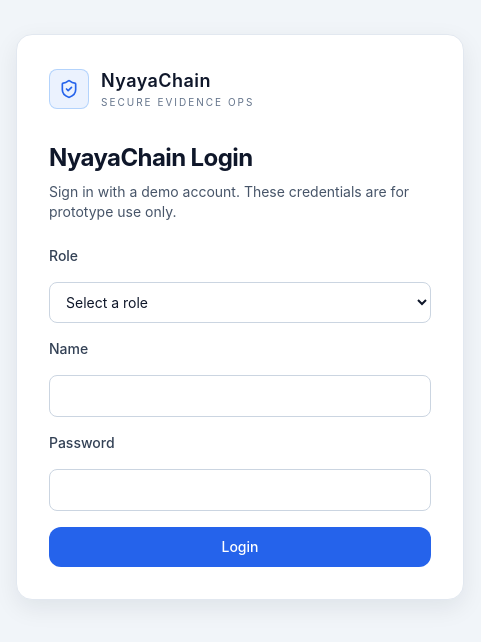
Test: NyayaChain demo authentication › rejects an incorrect password and an invalid role/name combination
The image size is (481, 642).
Select "Investigating Officer" in the dropdown labelled "Role" at [240, 302], box [49, 282, 431, 323]
Type "Ravi Kumar" into the field labelled "Name" at [240, 396], box [49, 375, 431, 417]
Type "wrong" into the password field labelled "Password" at [240, 490], box [49, 469, 431, 511]
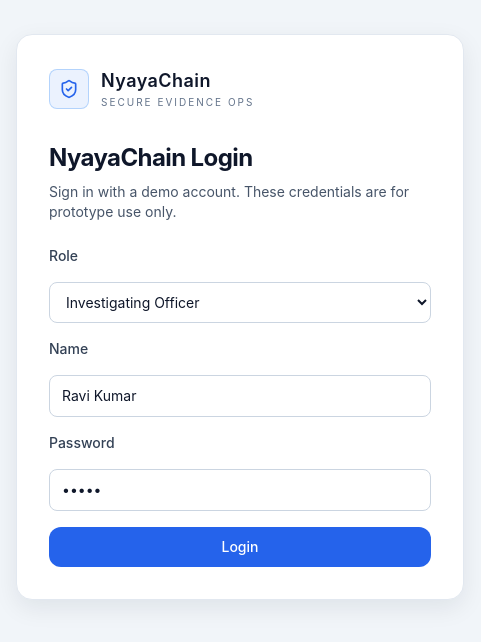
Click the button "Login" at [240, 547], box [49, 527, 431, 567]
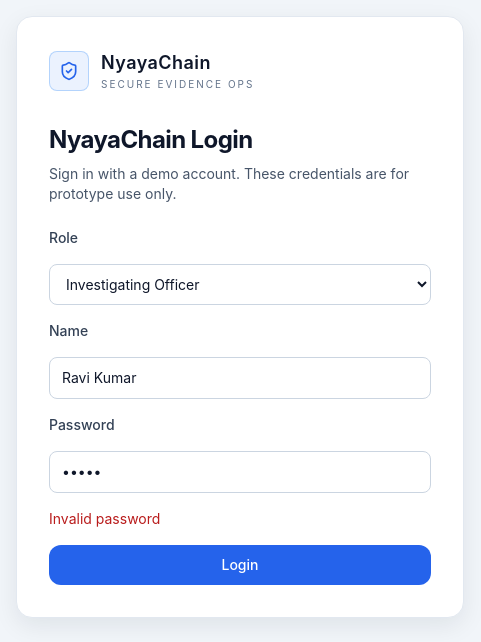
Now the message reads "Invalid password", box [49, 510, 160, 527]
Select "Investigating Officer" in the dropdown labelled "Role" at [240, 284], box [49, 264, 431, 305]
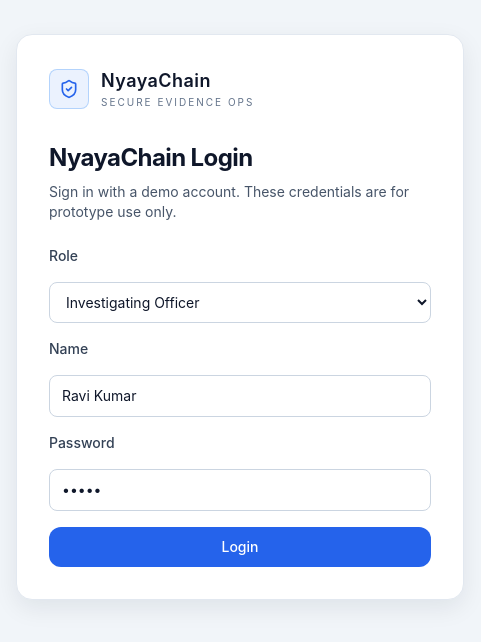
Replace the text in the field labelled "Name" with "Unknown User" at [240, 396], box [49, 375, 431, 417]
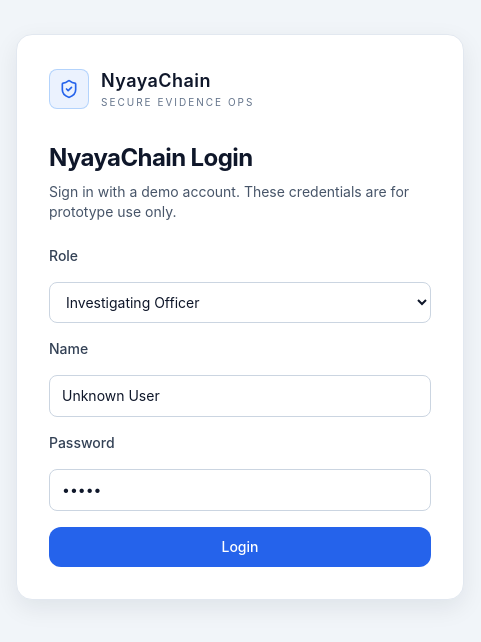
Type "Officer@123" into the password field labelled "Password" at [240, 490], box [49, 469, 431, 511]
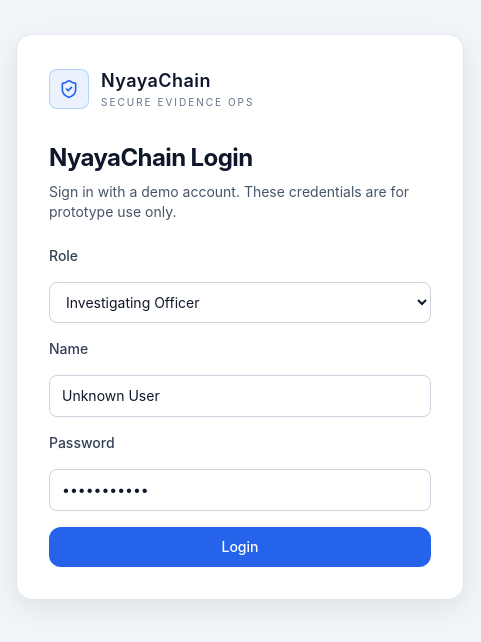
Click the button "Login" at [240, 547], box [49, 527, 431, 567]
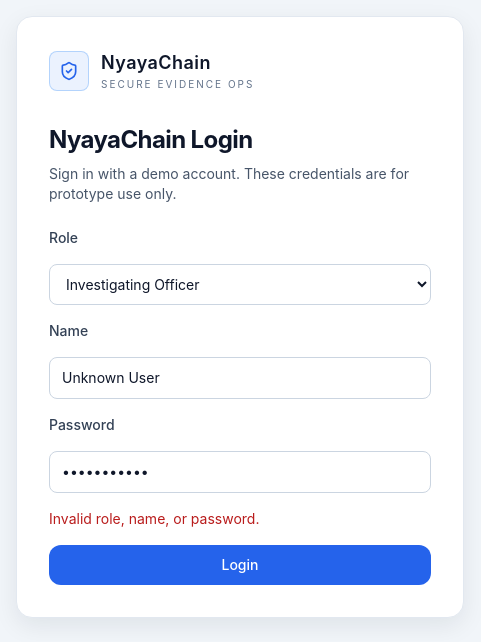
Now the message reads "Invalid role, name, or password.", box [49, 510, 260, 527]
